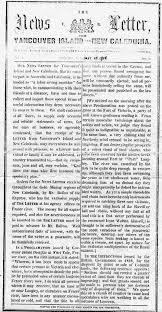Printing industry: (6, 1, 162, 312)
